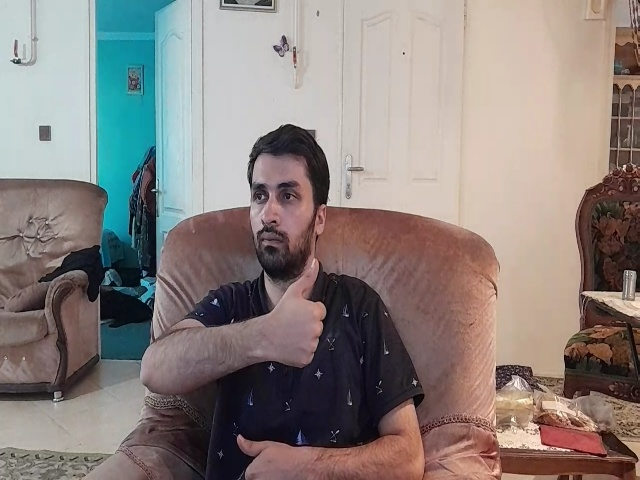ThumbsUp: (258, 257, 330, 372)
